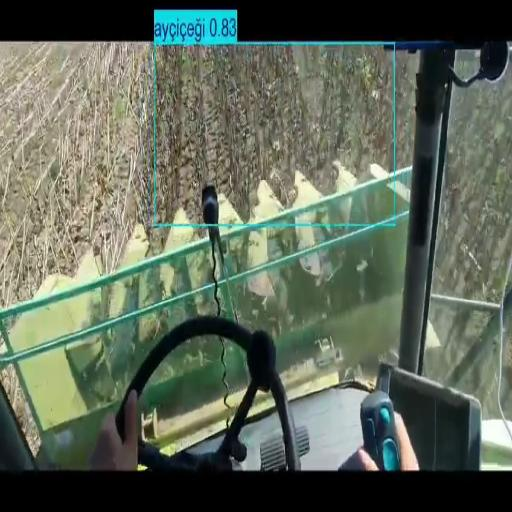ayc: (156, 47, 394, 219), (435, 65, 511, 297), (397, 55, 416, 167)
